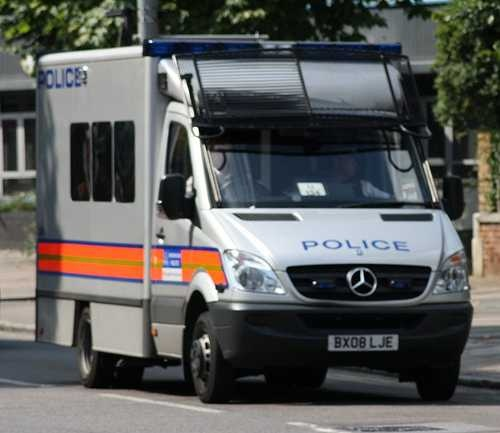Police Van: (39, 38, 490, 385)
